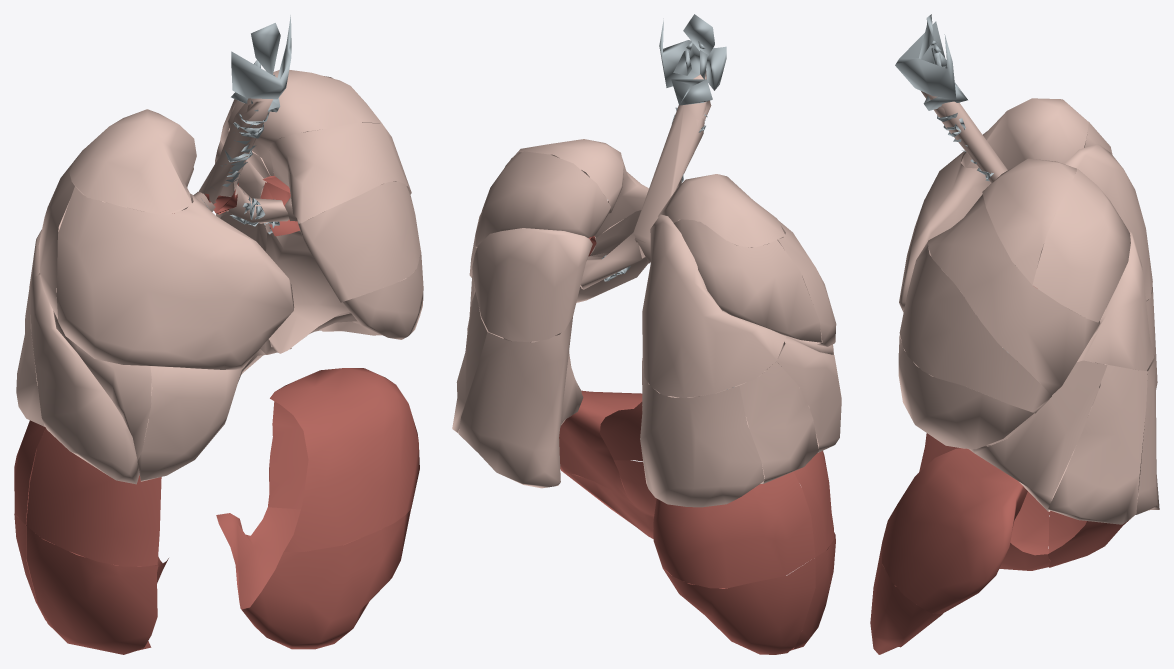
File: adult_female.respiratory.LOD4.glb
3 renders of one model, left to right at view 1: azimuth 30°, elevation 25°; view 2: azimuth 150°, elevation 25°; view 3: azimuth 270°, elevation 25°, orthographic. The views are drawn at different scales.
Parts seen in each view (by area): view 1: ADULT.FEMALE.RESPIRATORY.ANTERIOR_BRONCHOPULMONARY_SEGM.R, ADULT.FEMALE.RESPIRATORY.SUPEROMEDIAL_SEGMENT.L, ADULT.FEMALE.RESPIRATORY.ANTEROLATERAL_SEGMENT.L, ADULT.FEMALE.RESPIRATORY.ANTEROSUPERIOR_SEGMENT.R, ADULT.FEMALE.RESPIRATORY.ANTEROINFERIOR_SEGMENT.R, ADULT.FEMALE.RESPIRATORY.ANTERIOR_BASAL_BRONCHOPULMONARY_SEG, ADULT.FEMALE.RESPIRATORY.LINGULA_SUPERIOR_BRONCHOPULMONARY_S, ADULT.FEMALE.RESPIRATORY.APICAL_BRONCHOPULMONARY_SEGMENT.R, ADULT.FEMALE.RESPIRATORY.ANTERIOR_BRONCHOPULMONARY_SEGMENT.L, ADULT.FEMALE.RESPIRATORY.MEDIAL_BRONCHOPULMONARY_SEGMENT.R, ADULT.FEMALE.RESPIRATORY.APICAL_BRONCHOPULMONARY_SEGMENT.L, ADULT.FEMALE.RESPIRATORY.MEDIAL_BASAL_BRONCHOPULMONARY_SEGME (+14 smaller); view 2: ADULT.FEMALE.RESPIRATORY.POSTERIOR_BASAL_BRONCHOPULMONARY_SE (×2), ADULT.FEMALE.RESPIRATORY.POSTERIOR_BRONCHOPULMONARY_SEGMENT. (×2), ADULT.FEMALE.RESPIRATORY.SUPERIOR_BRONCHOPULMONARY_SEGMENT.R, ADULT.FEMALE.RESPIRATORY.POSTEROSUPERIOR_SEGMENT.R, ADULT.FEMALE.RESPIRATORY.SUPERIOR_BRONCHOPULMONARY_SEGMENT.L, ADULT.FEMALE.RESPIRATORY.LATERAL_BASAL_BRONCHOPULMONARY_SEGM (×2), ADULT.FEMALE.RESPIRATORY.POSTEROINFERIOR_SEGMENT.R, ADULT.FEMALE.RESPIRATORY.SUPEROMEDIAL_SEGMENT.L, ADULT.FEMALE.RESPIRATORY.APICAL_BRONCHOPULMONARY_SEGMENT.R, ADULT.FEMALE.RESPIRATORY.TRACHEA, ADULT.FEMALE.RESPIRATORY.ANTERIOR_BASAL_BRONCHOPULMONARY_SEG, ADULT.FEMALE.RESPIRATORY.APICAL_BRONCHOPULMONARY_SEGMENT.L (+11 smaller); view 3: ADULT.FEMALE.RESPIRATORY.SUPEROMEDIAL_SEGMENT.L, ADULT.FEMALE.RESPIRATORY.ANTERIOR_BRONCHOPULMONARY_SEGMENT.L, ADULT.FEMALE.RESPIRATORY.LINGULA_SUPERIOR_BRONCHOPULMONARY_S, ADULT.FEMALE.RESPIRATORY.LATERAL_BASAL_BRONCHOPULMONARY_SEGM, ADULT.FEMALE.RESPIRATORY.POSTERIOR_BRONCHOPULMONARY_SEGMENT., ADULT.FEMALE.RESPIRATORY.ANTERIOR_BASAL_BRONCHOPULMONARY_SEG, ADULT.FEMALE.RESPIRATORY.LINGULA_INFERIOR_BRONCHOPULMONARY_S, ADULT.FEMALE.RESPIRATORY.APICAL_BRONCHOPULMONARY_SEGMENT.L, ADULT.FEMALE.RESPIRATORY.APICAL_BRONCHOPULMONARY_SEGMENT.R, ADULT.FEMALE.RESPIRATORY.SUPERIOR_BRONCHOPULMONARY_SEGMENT.L, ADULT.FEMALE.RESPIRATORY.ANTERIOR_BRONCHOPULMONARY_SEGM.R, ADULT.FEMALE.RESPIRATORY.SUPERIOR_BRONCHOPULMONARY_SEGMENT.R (+7 smaller).
Boxes of the visible parts, <box> form: ADULT.FEMALE.RESPIRATORY.ANTERIOR_BRONCHOPULMONARY_SEGM.R: <box>56,187,294,369</box>; ADULT.FEMALE.RESPIRATORY.SUPEROMEDIAL_SEGMENT.L: <box>268,368,419,551</box>; ADULT.FEMALE.RESPIRATORY.ANTEROLATERAL_SEGMENT.L: <box>216,507,410,649</box>; ADULT.FEMALE.RESPIRATORY.ANTEROSUPERIOR_SEGMENT.R: <box>26,428,161,566</box>; ADULT.FEMALE.RESPIRATORY.ANTEROINFERIOR_SEGMENT.R: <box>26,526,168,654</box>; ADULT.FEMALE.RESPIRATORY.ANTERIOR_BASAL_BRONCHOPULMONARY_SEG: <box>31,274,149,484</box>; ADULT.FEMALE.RESPIRATORY.LINGULA_SUPERIOR_BRONCHOPULMONARY_S: <box>297,181,420,302</box>; ADULT.FEMALE.RESPIRATORY.APICAL_BRONCHOPULMONARY_SEGMENT.R: <box>69,109,196,214</box>; ADULT.FEMALE.RESPIRATORY.ANTERIOR_BRONCHOPULMONARY_SEGMENT.L: <box>269,122,411,222</box>; ADULT.FEMALE.RESPIRATORY.MEDIAL_BRONCHOPULMONARY_SEGMENT.R: <box>137,366,241,481</box>; ADULT.FEMALE.RESPIRATORY.APICAL_BRONCHOPULMONARY_SEGMENT.L: <box>228,70,382,175</box>; ADULT.FEMALE.RESPIRATORY.MEDIAL_BASAL_BRONCHOPULMONARY_SEGME: <box>266,231,349,353</box>; ADULT.FEMALE.RESPIRATORY.POSTERIOR_BASAL_BRONCHOPULMONARY_SE (×2): <box>458,317,764,507</box>; ADULT.FEMALE.RESPIRATORY.POSTERIOR_BRONCHOPULMONARY_SEGMENT. (×2): <box>475,151,821,342</box>; ADULT.FEMALE.RESPIRATORY.SUPERIOR_BRONCHOPULMONARY_SEGMENT.R: <box>642,214,785,398</box>; ADULT.FEMALE.RESPIRATORY.POSTEROSUPERIOR_SEGMENT.R: <box>653,471,815,588</box>; ADULT.FEMALE.RESPIRATORY.SUPERIOR_BRONCHOPULMONARY_SEGMENT.L: <box>472,228,592,342</box>; ADULT.FEMALE.RESPIRATORY.LATERAL_BASAL_BRONCHOPULMONARY_SEGM (×2): <box>452,291,818,483</box>; ADULT.FEMALE.RESPIRATORY.POSTEROINFERIOR_SEGMENT.R: <box>662,557,815,654</box>; ADULT.FEMALE.RESPIRATORY.SUPEROMEDIAL_SEGMENT.L: <box>559,390,642,507</box>; ADULT.FEMALE.RESPIRATORY.APICAL_BRONCHOPULMONARY_SEGMENT.R: <box>658,174,785,247</box>; ADULT.FEMALE.RESPIRATORY.TRACHEA: <box>633,71,711,263</box>; ADULT.FEMALE.RESPIRATORY.ANTERIOR_BASAL_BRONCHOPULMONARY_SEG: <box>719,334,841,452</box>; ADULT.FEMALE.RESPIRATORY.APICAL_BRONCHOPULMONARY_SEGMENT.L: <box>505,139,623,213</box>; ADULT.FEMALE.RESPIRATORY.SUPEROMEDIAL_SEGMENT.L: <box>882,448,1027,613</box>; ADULT.FEMALE.RESPIRATORY.ANTERIOR_BRONCHOPULMONARY_SEGMENT.L: <box>928,194,1100,395</box>; ADULT.FEMALE.RESPIRATORY.LINGULA_SUPERIOR_BRONCHOPULMONARY_S: <box>899,242,1051,413</box>; ADULT.FEMALE.RESPIRATORY.LATERAL_BASAL_BRONCHOPULMONARY_SEGM: <box>1048,364,1147,524</box>; ADULT.FEMALE.RESPIRATORY.POSTERIOR_BRONCHOPULMONARY_SEGMENT.: <box>1032,169,1130,322</box>; ADULT.FEMALE.RESPIRATORY.ANTERIOR_BASAL_BRONCHOPULMONARY_SEG: <box>969,360,1107,511</box>; ADULT.FEMALE.RESPIRATORY.LINGULA_INFERIOR_BRONCHOPULMONARY_S: <box>898,335,1034,449</box>; ADULT.FEMALE.RESPIRATORY.APICAL_BRONCHOPULMONARY_SEGMENT.L: <box>982,158,1076,284</box>; ADULT.FEMALE.RESPIRATORY.APICAL_BRONCHOPULMONARY_SEGMENT.R: <box>961,98,1088,169</box>; ADULT.FEMALE.RESPIRATORY.SUPERIOR_BRONCHOPULMONARY_SEGMENT.L: <box>1077,230,1154,370</box>; ADULT.FEMALE.RESPIRATORY.ANTERIOR_BRONCHOPULMONARY_SEGM.R: <box>899,151,991,312</box>; ADULT.FEMALE.RESPIRATORY.SUPERIOR_BRONCHOPULMONARY_SEGMENT.R: <box>1064,144,1152,300</box>.
Size of the model in its own units: 0.2558 by 0.4018 by 0.169.
